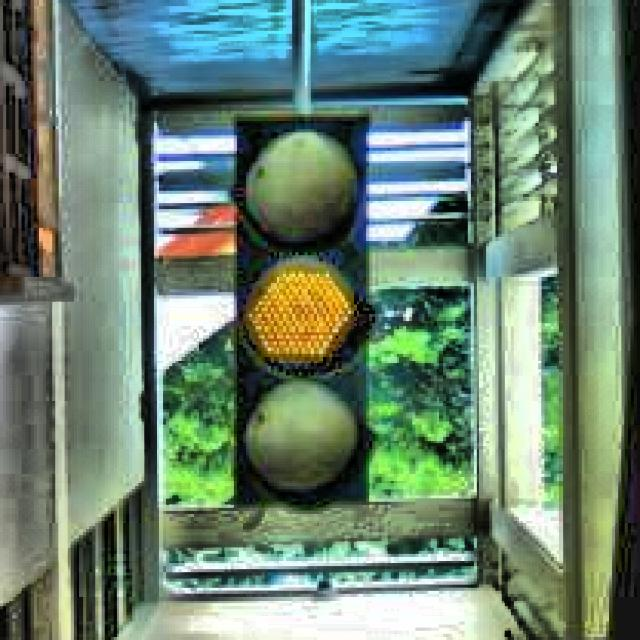yellow: (196, 103, 427, 525)
